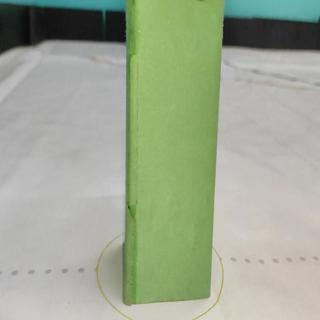greenbox: (124, 1, 225, 303)
